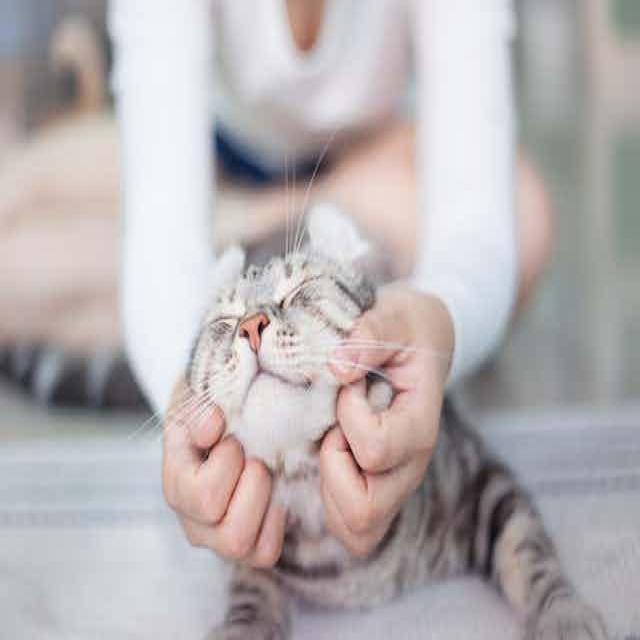Cat: (180, 244, 412, 494)
